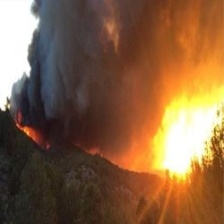fire: (141, 101, 224, 176), (10, 106, 54, 156)
smoke: (10, 5, 170, 103)
